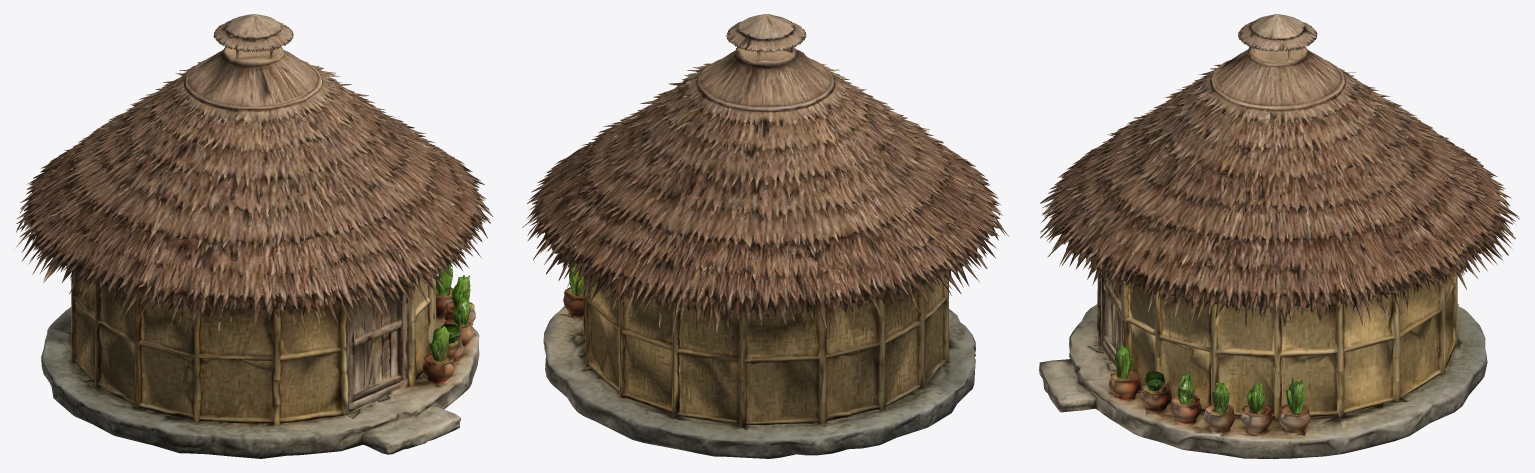
Rendered from hut.glb.
The picture shows the model from 3 angles, left to right: view 1: azimuth 30°, elevation 25°; view 2: azimuth 150°, elevation 25°; view 3: azimuth 270°, elevation 25°; orthographic projection.
Visible parts, largest first — view 1: tripo_node_48fd3b79-b65a-40eb-af8b-3957e193cb33; view 2: tripo_node_48fd3b79-b65a-40eb-af8b-3957e193cb33; view 3: tripo_node_48fd3b79-b65a-40eb-af8b-3957e193cb33.
Boxes of the visible parts, x1,y1,x2,y2 form: tripo_node_48fd3b79-b65a-40eb-af8b-3957e193cb33: (14, 14, 493, 458); tripo_node_48fd3b79-b65a-40eb-af8b-3957e193cb33: (522, 14, 1009, 458); tripo_node_48fd3b79-b65a-40eb-af8b-3957e193cb33: (1039, 14, 1519, 458).
Bounding box in the file's own units: 0.9772 × 0.7856 × 0.9743.
Materials: 1 (1 with a texture image).
